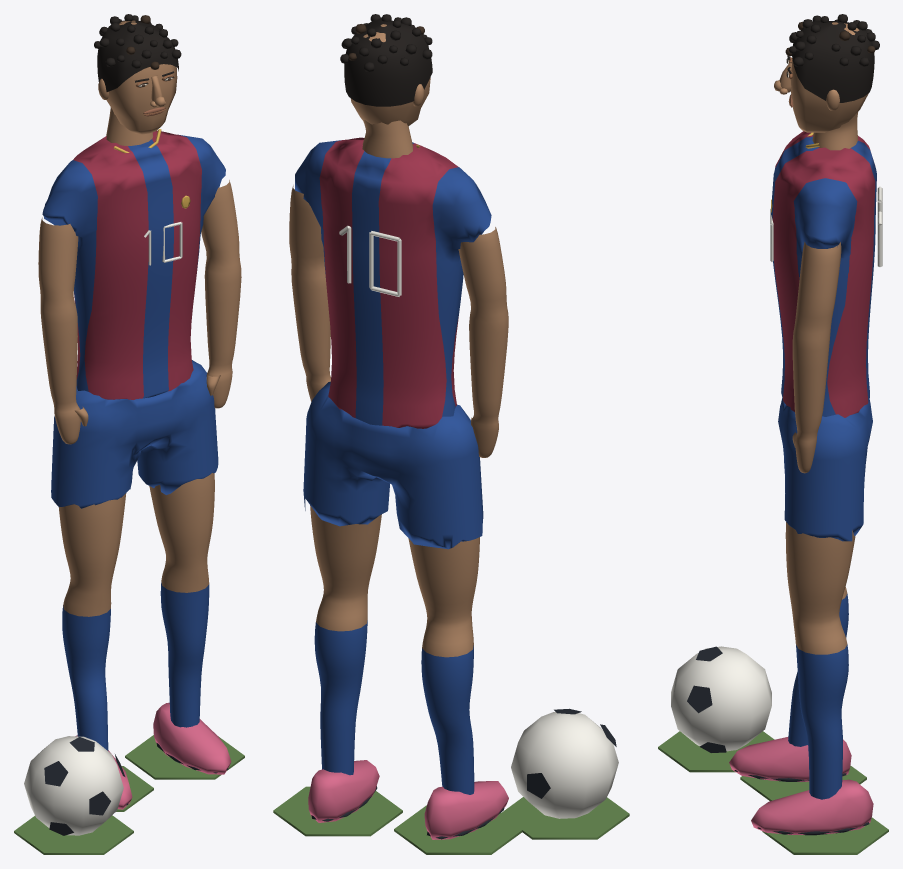
Rendered from yamal.glb.
3 renders of one model, left to right at view 1: azimuth 30°, elevation 25°; view 2: azimuth 150°, elevation 25°; view 3: azimuth 270°, elevation 25°, orthographic. The views are drawn at different scales.
Parts seen in each view (by area): view 1: jersey_burgundy, shorts_blue, arms_brown, jersey_blue, legs_brown, legs_blue, football_white, turf_grass, boots_pink, head_brown, hair_cap_blackHair, curls_blackHair (+3 smaller); view 2: jersey_burgundy, shorts_blue, jersey_blue, arms_brown, legs_brown, legs_blue, turf_grass, football_white, boots_pink, hair_cap_blackHair, neck_brown, curls_blackHair (+3 smaller); view 3: jersey_burgundy, shorts_blue, football_white, boots_pink, arms_brown, legs_blue, jersey_blue, legs_brown, turf_grass, hair_cap_blackHair, head_brown, curls_blackHair (+4 smaller).
Part boxes in pixels (x1,y1,x2,y2): jersey_burgundy: (73, 130, 201, 399); shorts_blue: (51, 360, 218, 508); arms_brown: (38, 180, 241, 444); jersey_blue: (42, 134, 225, 398); legs_brown: (59, 473, 214, 616); legs_blue: (62, 582, 209, 750); football_white: (24, 736, 123, 835); turf_grass: (14, 735, 244, 854); boots_pink: (75, 702, 231, 809); head_brown: (106, 20, 177, 134); hair_cap_blackHair: (97, 20, 178, 91); curls_blackHair: (94, 14, 181, 68); jersey_burgundy: (319, 137, 458, 428); shorts_blue: (303, 381, 483, 549); jersey_blue: (295, 140, 491, 425); arms_brown: (289, 185, 508, 457); legs_brown: (310, 505, 479, 657); legs_blue: (314, 620, 474, 794); turf_grass: (273, 786, 629, 854); football_white: (511, 712, 618, 818); boots_pink: (308, 760, 508, 839); hair_cap_blackHair: (344, 19, 432, 106); neck_brown: (362, 120, 413, 158); curls_blackHair: (340, 14, 432, 72); jersey_burgundy: (772, 131, 875, 417); shorts_blue: (778, 398, 872, 541); football_white: (671, 646, 771, 751); boots_pink: (729, 737, 873, 834); arms_brown: (792, 242, 841, 473); legs_blue: (788, 594, 848, 799); jersey_blue: (771, 136, 876, 416); legs_brown: (785, 522, 855, 654); turf_grass: (658, 731, 888, 854); hair_cap_blackHair: (792, 20, 874, 102); head_brown: (790, 22, 868, 132); curls_blackHair: (789, 14, 879, 66).
Bounding box in the file's own units: 0.6314 × 1.78 × 0.4726.
